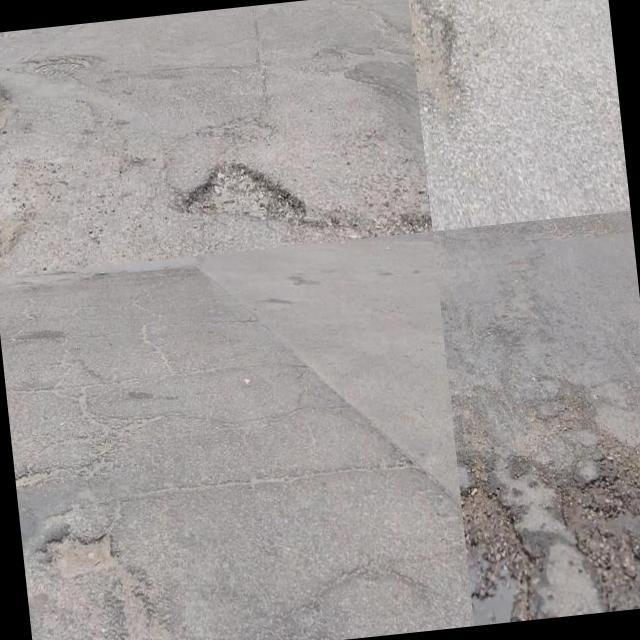Pothole: (557, 446, 640, 612), (458, 480, 536, 626), (177, 156, 304, 232), (408, 0, 464, 120), (37, 525, 120, 584)
